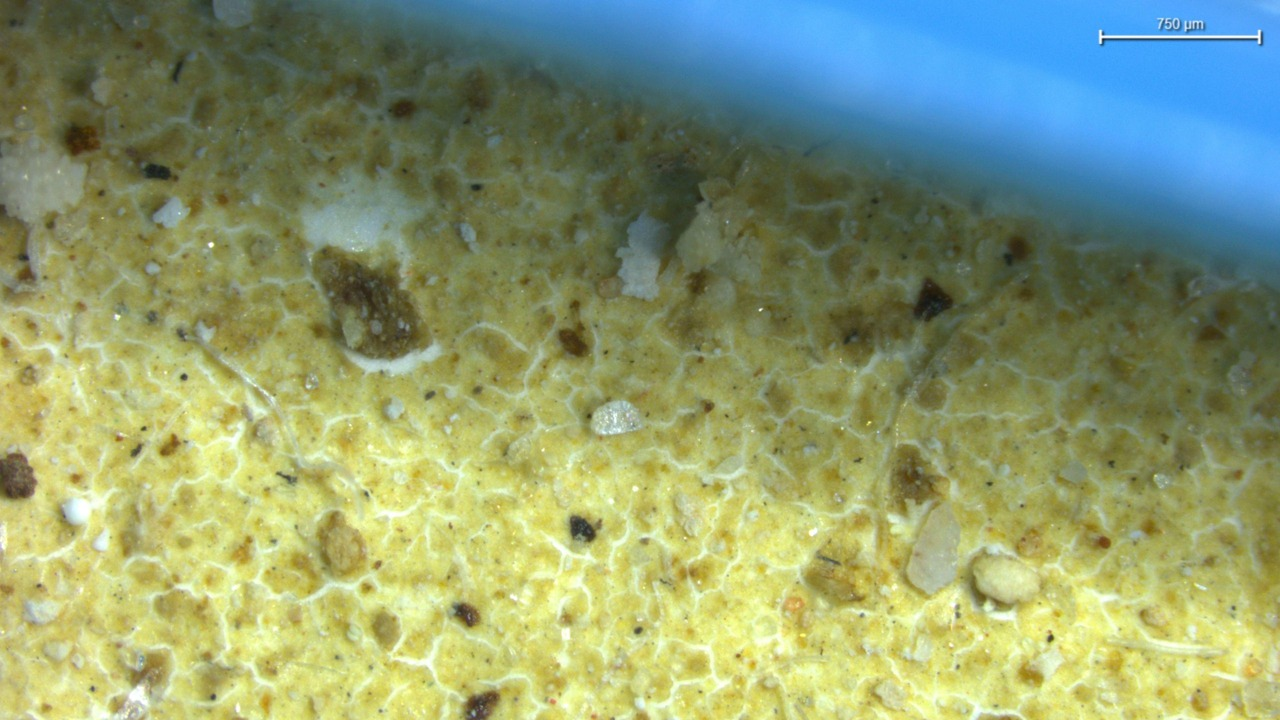microplastic_fragment: (907, 502, 960, 594), (617, 212, 670, 300), (973, 554, 1040, 604), (591, 400, 642, 435)
